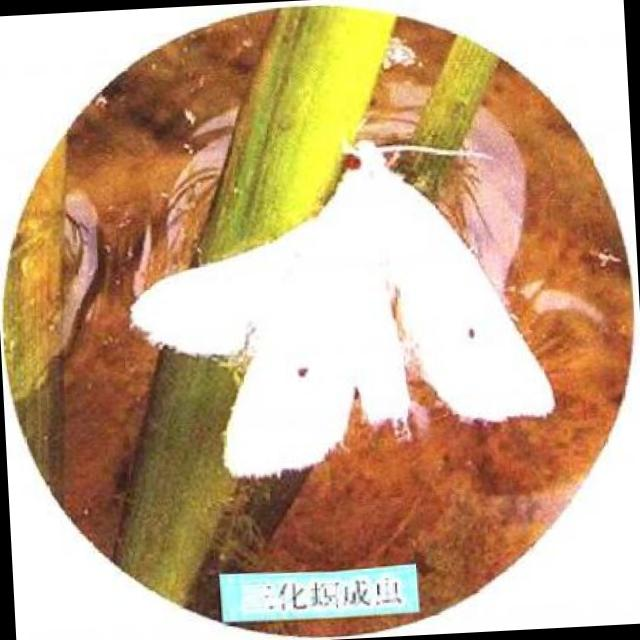stem-borer: (130, 136, 555, 479)
